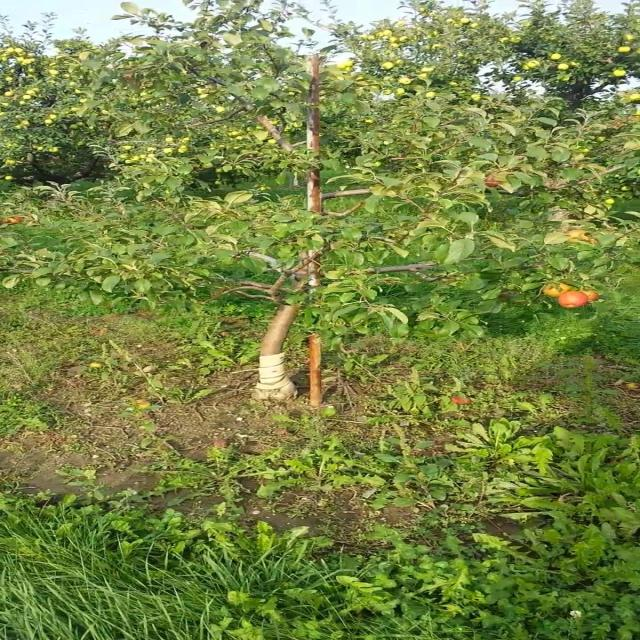apple: (561, 292, 590, 308), (547, 284, 569, 296), (568, 232, 587, 241), (6, 216, 23, 224), (589, 292, 599, 300), (490, 180, 500, 188)
